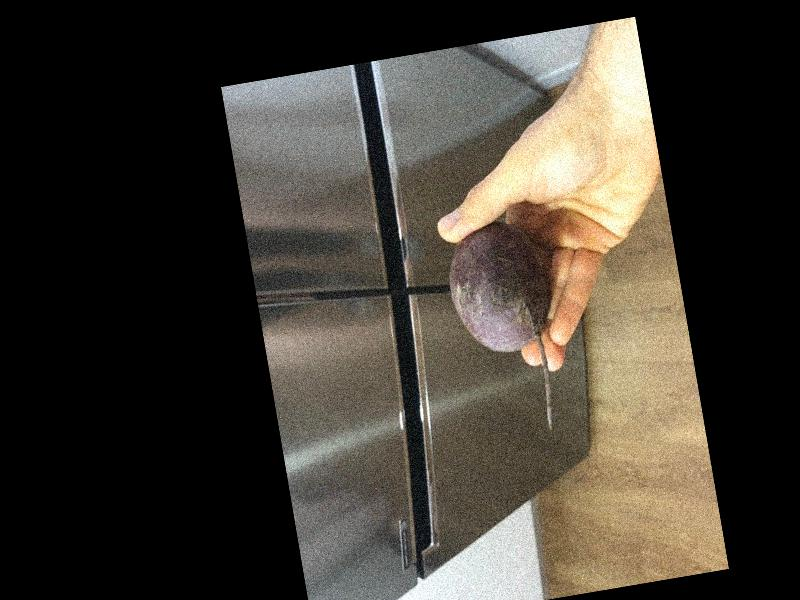Beet: (439, 216, 572, 443)
